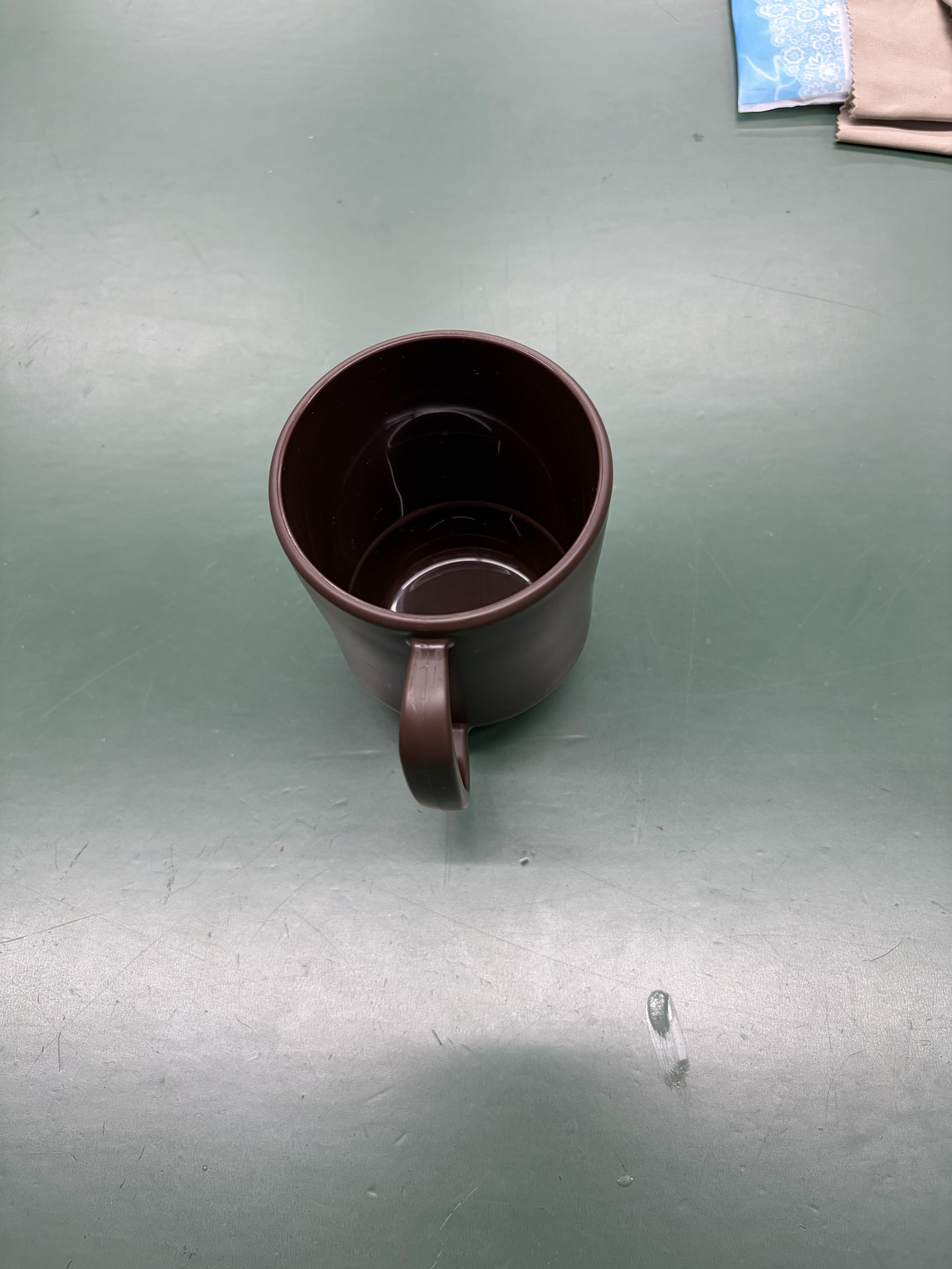mug-real100-3d100: (269, 331, 612, 810)
